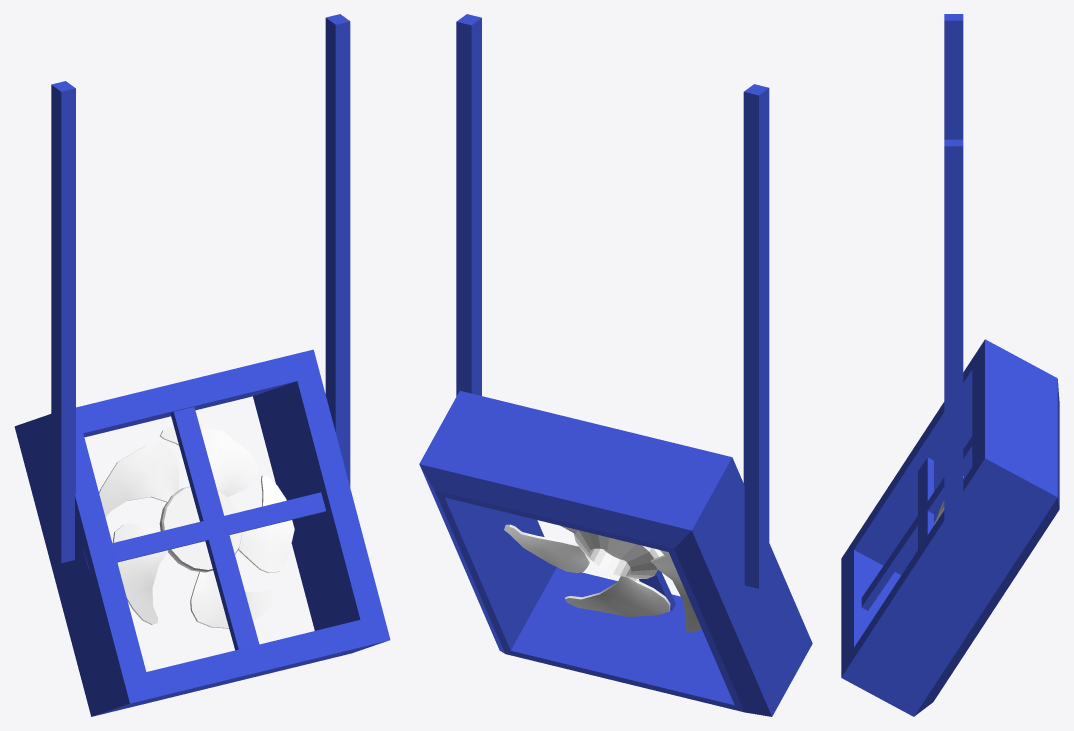
File: man.glb
3 views of the same model, side by side, from view 1: azimuth 30°, elevation 25°; view 2: azimuth 150°, elevation 25°; view 3: azimuth 270°, elevation 25° (orthographic). The views are drawn at different scales.
Visible parts, largest first — view 1: extents_265, shanye, Center_huan; view 2: extents_265, shanye, Center_huan; view 3: extents_265.
Boxes of the visible parts, <box> form: extents_265: <box>14,14,390,716</box>; shanye: <box>99,426,294,628</box>; Center_huan: <box>159,486,241,572</box>; extents_265: <box>419,14,812,716</box>; shanye: <box>504,524,701,632</box>; Center_huan: <box>574,530,658,578</box>; extents_265: <box>841,14,1059,716</box>.
Bounding box in the file's own units: 0.2809 × 0.5725 × 0.1963.
